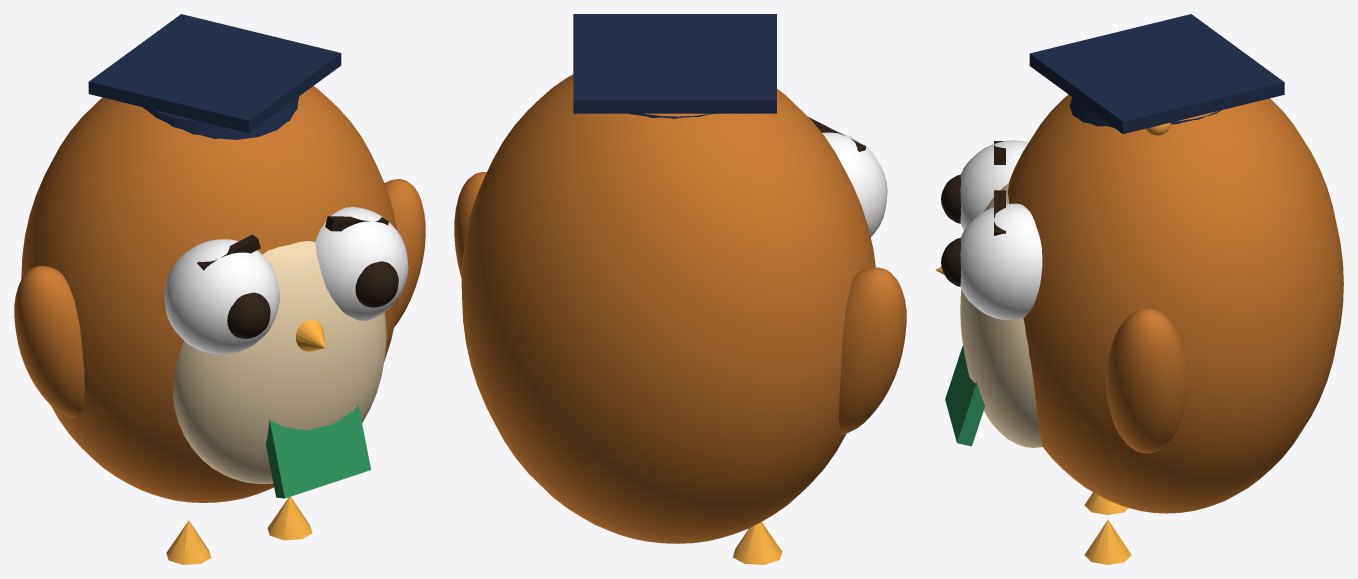
File: mascot-owl.glb
3 views of the same model, side by side, from view 1: azimuth 30°, elevation 25°; view 2: azimuth 150°, elevation 25°; view 3: azimuth 270°, elevation 25° (orthographic). The views are drawn at different scales.
Visible parts, largest first — view 1: Body, Belly, CapTop, EyeWhite0, LeftWing, Book, EyeWhite1, RightWing, CapBase, Pupil1, Pupil0, Foot0 (+3 smaller); view 2: Body, CapTop, LeftWing, EyeWhite0, Foot0, RightWing; view 3: Body, CapTop, RightWing, EyeWhite1, Belly, EyeWhite0, Book, Foot1, Pupil0, Pupil1, CapBase, Foot0.
Part boxes in pixels (left/top/right/bottom): Body: left=21, top=86, right=398, bottom=502; Belly: left=173, top=241, right=386, bottom=484; CapTop: left=88, top=14, right=341, bottom=132; EyeWhite0: left=164, top=239, right=280, bottom=354; LeftWing: left=14, top=266, right=84, bottom=417; Book: left=266, top=404, right=370, bottom=498; EyeWhite1: left=315, top=207, right=408, bottom=320; RightWing: left=384, top=179, right=425, bottom=327; CapBase: left=143, top=96, right=299, bottom=139; Pupil1: left=355, top=261, right=398, bottom=307; Pupil0: left=227, top=292, right=270, bottom=338; Foot0: left=166, top=520, right=211, bottom=564; Body: left=461, top=74, right=875, bottom=543; CapTop: left=573, top=14, right=776, bottom=113; LeftWing: left=839, top=267, right=906, bottom=434; EyeWhite0: left=822, top=132, right=887, bottom=236; Foot0: left=733, top=522, right=782, bottom=564; RightWing: left=454, top=172, right=486, bottom=278; Body: left=1007, top=94, right=1343, bottom=513; CapTop: left=1029, top=14, right=1284, bottom=133; RightWing: left=1106, top=308, right=1187, bottom=453; EyeWhite1: left=960, top=203, right=1042, bottom=319; Belly: left=960, top=183, right=1042, bottom=447; EyeWhite0: left=960, top=140, right=1028, bottom=230; Book: left=945, top=345, right=985, bottom=446; Foot1: left=1084, top=520, right=1131, bottom=564; Pupil0: left=941, top=174, right=960, bottom=223; Pupil1: left=941, top=237, right=960, bottom=286; CapBase: left=1069, top=97, right=1221, bottom=127; Foot0: left=1084, top=492, right=1128, bottom=514.
Size of the model in its own units: 2.39 by 2.6 by 2.08.
